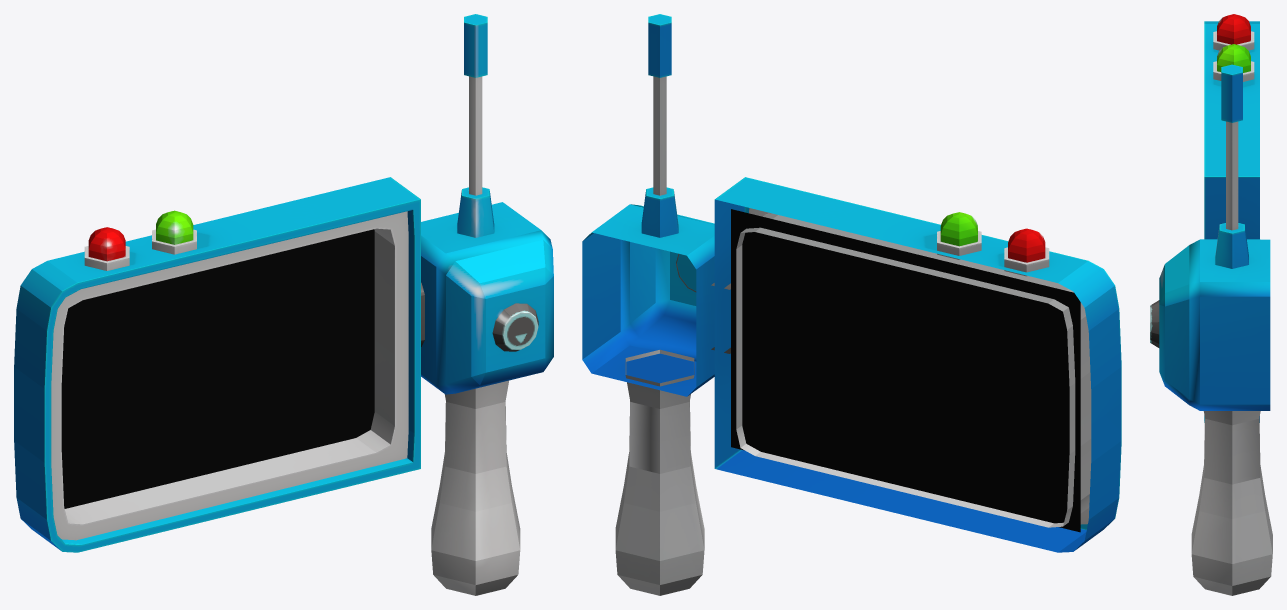
The model's file is scanner_02.fbx.
3 views of the same model, side by side, from view 1: azimuth 30°, elevation 25°; view 2: azimuth 150°, elevation 25°; view 3: azimuth 270°, elevation 25° (orthographic). The views are drawn at different scales.
Visible parts, largest first — view 1: scanner_02, screen_02; view 2: scanner_02, screen_02; view 3: scanner_02.
Boxes of the visible parts, x1,y1,x2,y2 form: scanner_02: [14, 14, 553, 595]; screen_02: [61, 229, 374, 508]; scanner_02: [582, 14, 1121, 595]; screen_02: [731, 209, 1080, 532]; scanner_02: [1150, 14, 1272, 595].
Bounding box in the file's own units: 26.61 × 28.37 × 6.15.
